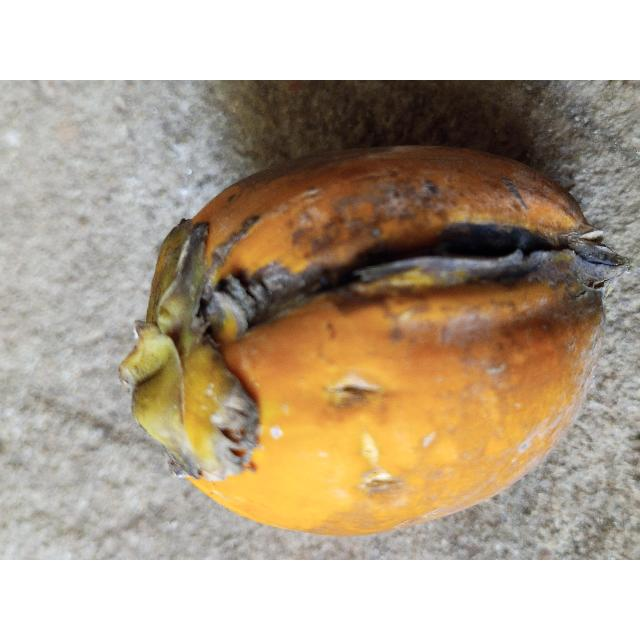damaged: (118, 144, 618, 539)
